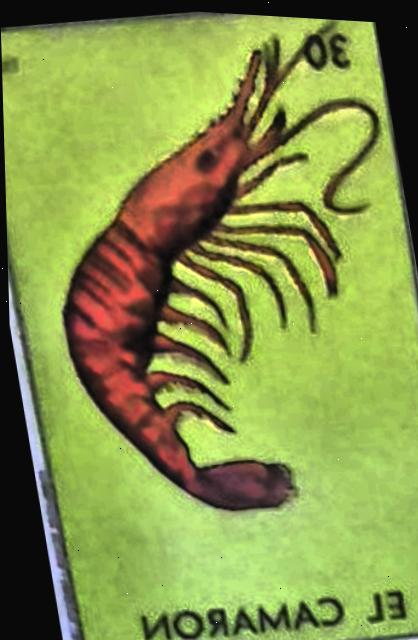El Camaron: (1, 11, 418, 640)
